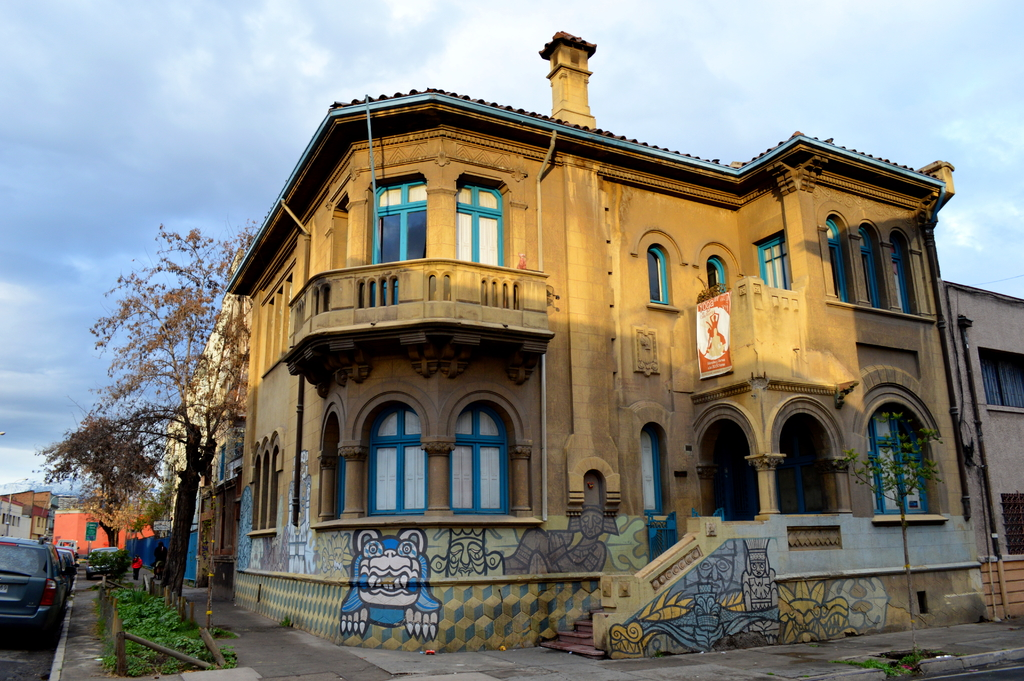Window: (866, 412, 929, 514), (367, 408, 425, 512), (456, 407, 509, 517), (378, 174, 422, 300), (455, 180, 505, 264), (646, 245, 670, 303)
